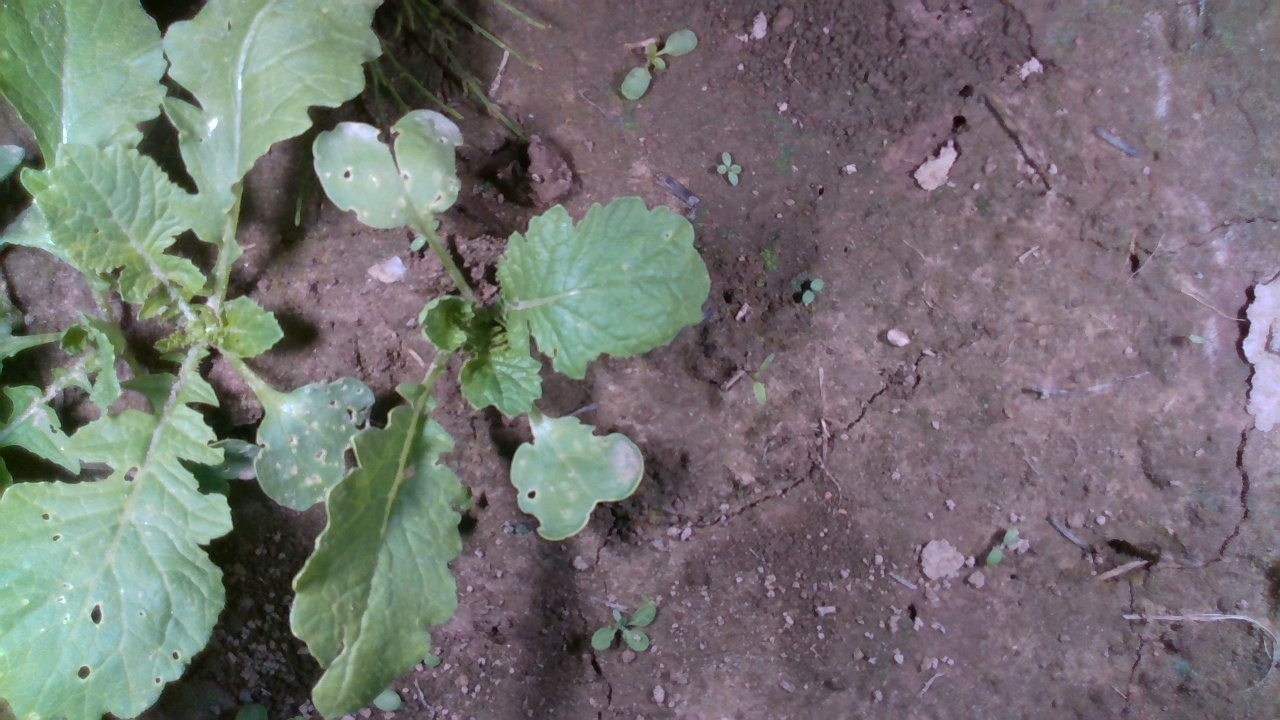weed: (620, 26, 696, 102), (590, 598, 659, 656), (987, 524, 1020, 566), (751, 350, 775, 406), (715, 150, 743, 186), (801, 277, 824, 307)
